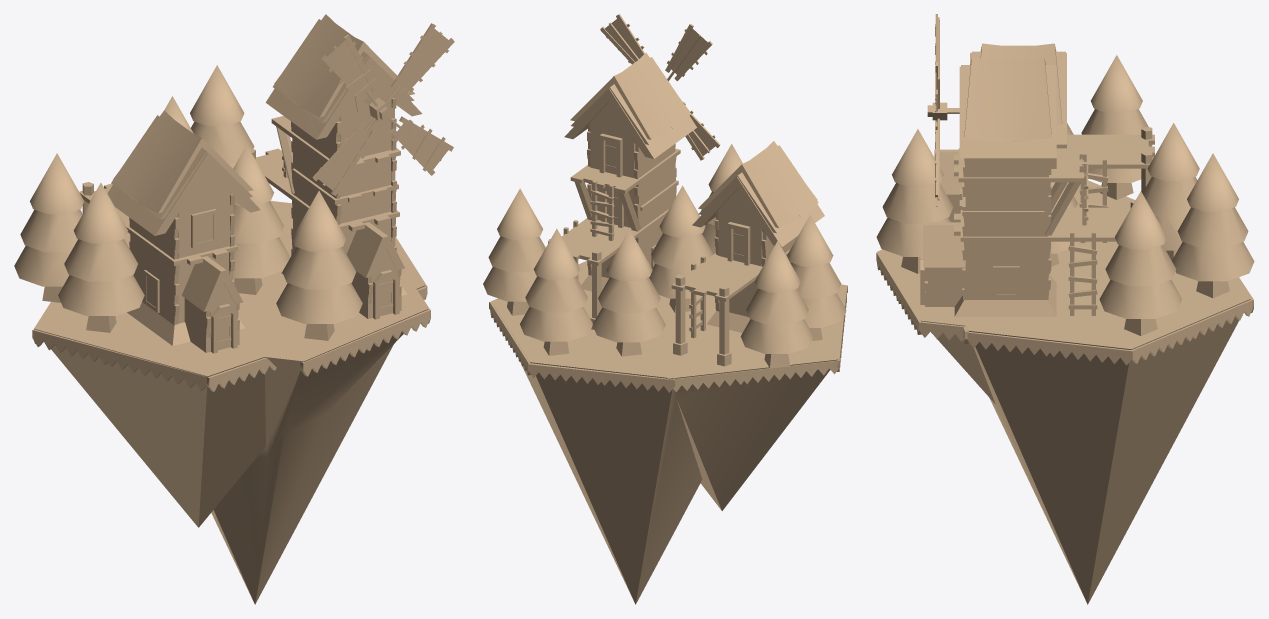
File: Low_Poly_Village_Houses.glb
3 views of the same model, side by side, from view 1: azimuth 30°, elevation 25°; view 2: azimuth 150°, elevation 25°; view 3: azimuth 270°, elevation 25° (orthographic). The views are drawn at different scales.
Visible parts, largest first — view 1: unnamed (×10); view 2: unnamed (×9); view 3: unnamed (×8).
Boxes of the visible parts, box(x1,y1,x2,y2) form: unnamed (×10): box(14, 14, 454, 604); unnamed (×9): box(483, 14, 847, 604); unnamed (×8): box(876, 14, 1254, 604).
Size of the model in its own units: 193 by 302 by 173.
